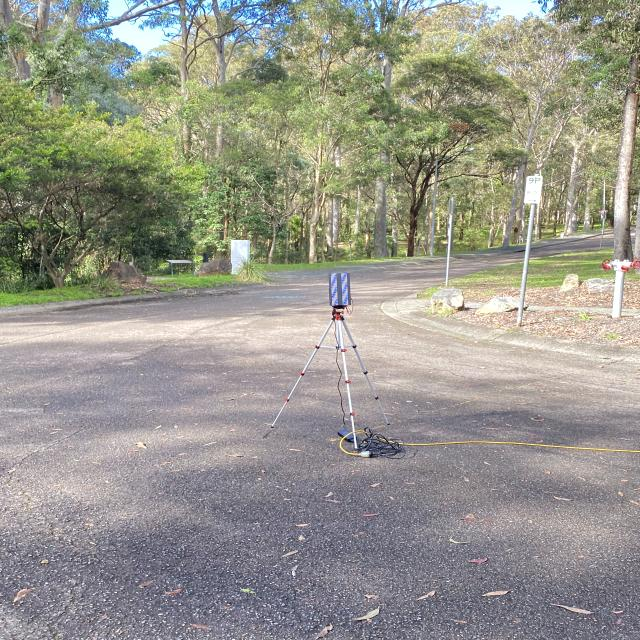matrix: (326, 272, 354, 307)
